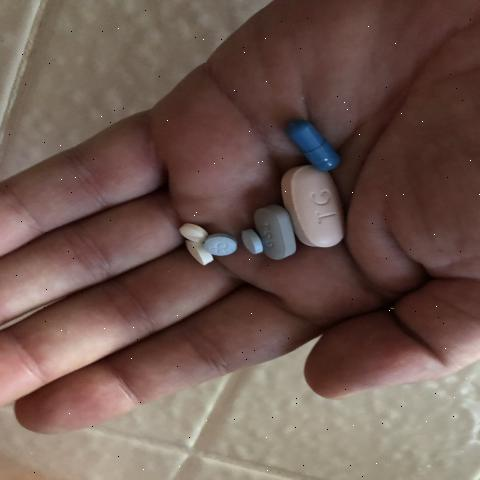Pill: (281, 163, 354, 250), (174, 234, 209, 266)
